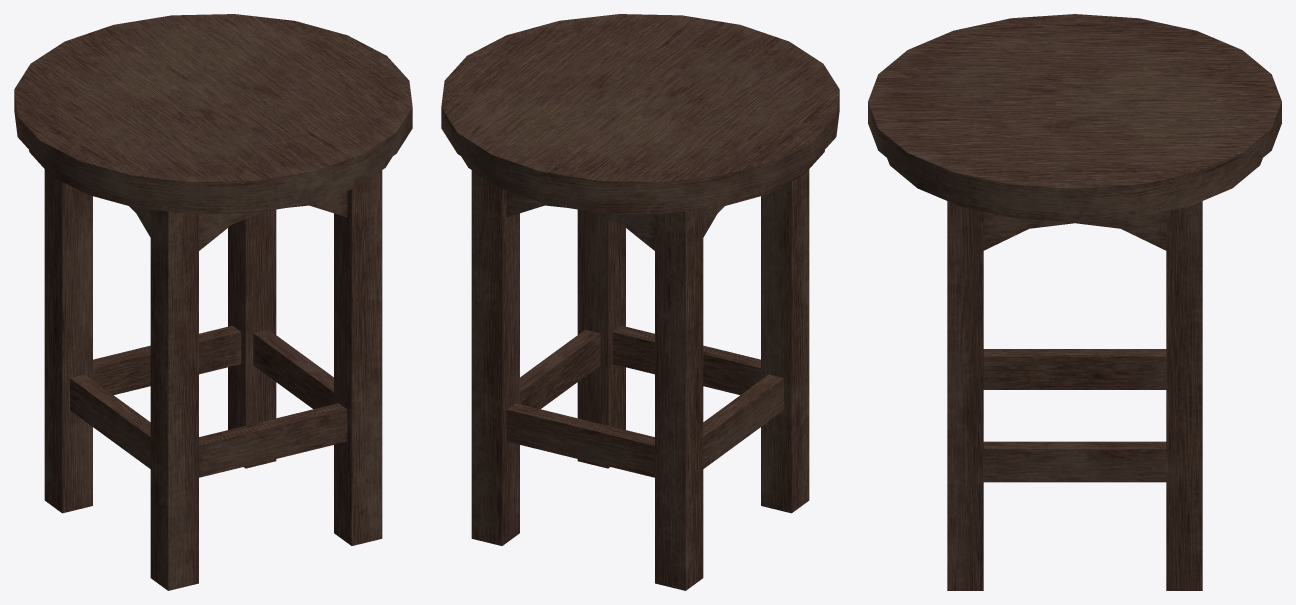
3 renders of one model, left to right at view 1: azimuth 30°, elevation 25°; view 2: azimuth 150°, elevation 25°; view 3: azimuth 270°, elevation 25°, orthographic. The views are drawn at different scales.
Visible parts, largest first — view 1: SM_Stool_LowPoly; view 2: SM_Stool_LowPoly; view 3: SM_Stool_LowPoly.
Part boxes in pixels (x1,y1,x2,y2): SM_Stool_LowPoly: (14, 14, 412, 590); SM_Stool_LowPoly: (441, 14, 839, 590); SM_Stool_LowPoly: (868, 14, 1281, 590).
Size of the model in its own units: 68.05 by 79 by 68.05.
Materials: 1 (1 with a texture image).
